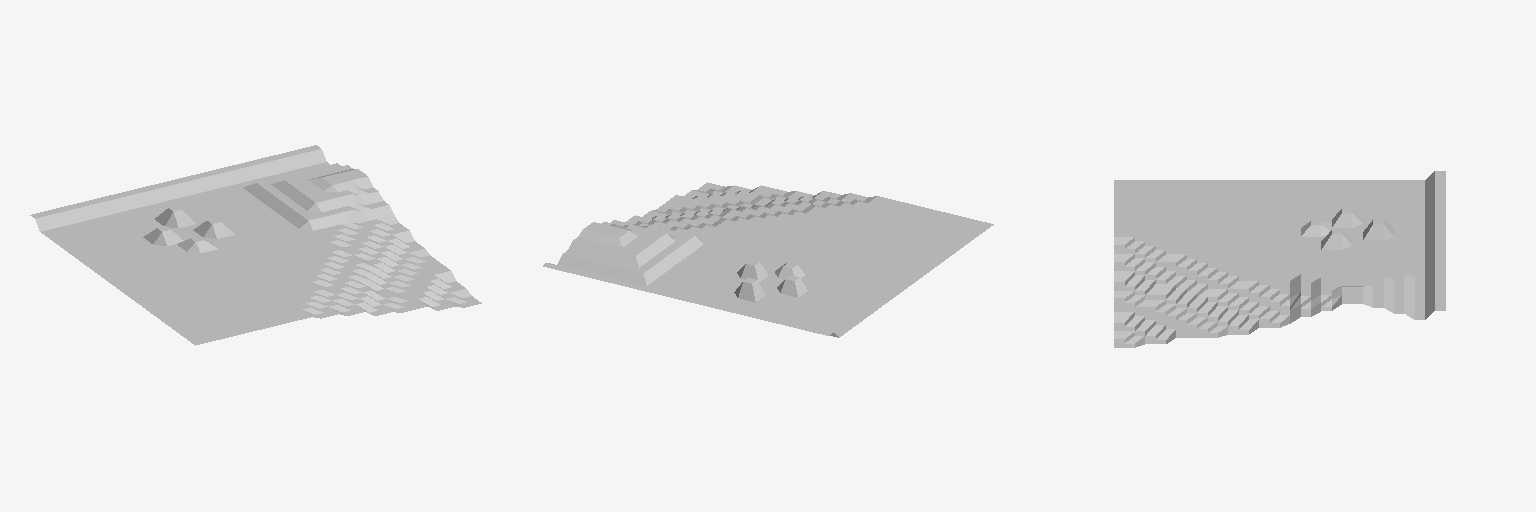
File: testMap.obj
3 views of the same model, side by side, from view 1: azimuth 30°, elevation 25°; view 2: azimuth 150°, elevation 25°; view 3: azimuth 270°, elevation 25° (orthographic).
Visible parts, largest first — view 1: Plane001; view 2: Plane001; view 3: Plane001.
Part boxes in pixels (bbox=[...]): Plane001: bbox=[30, 145, 481, 345]; Plane001: bbox=[543, 182, 993, 337]; Plane001: bbox=[1114, 171, 1445, 347].
Size of the model in its own units: 2048 by 299 by 2048.